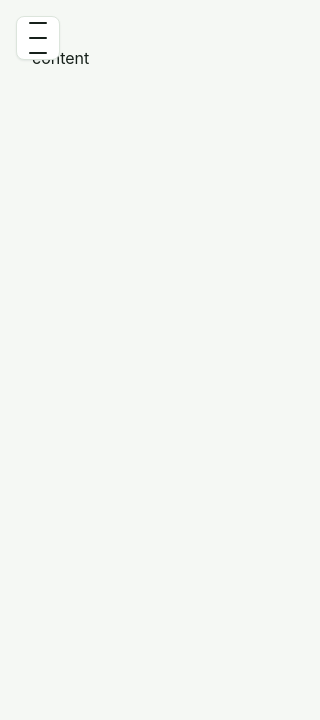
Scenario: PublicShell nav overlay responsive behavior › renders the nav overlay on mobile once the nav is opened
The width and height of the screenshot is (320, 720).
Click the button named "Show navigation" at (38, 38), box [16, 16, 60, 60]
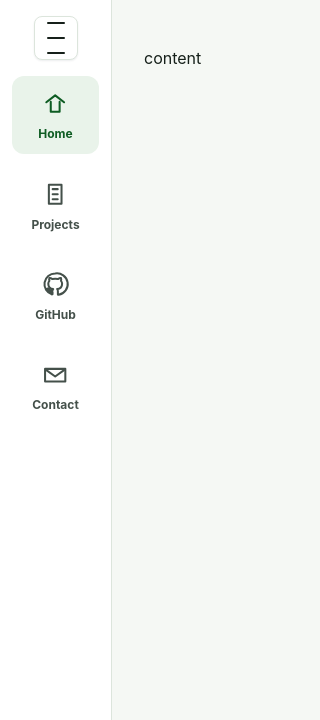
Expected: the button named "Hide navigation" is expanded, [34, 16, 78, 60]
